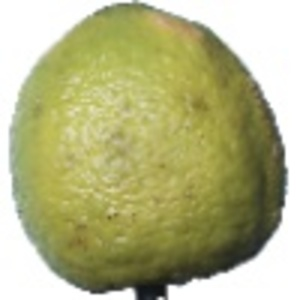limão: (10, 1, 288, 300)
